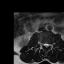CCS_normal: (45, 41, 47, 49)
LFS_normal: (49, 41, 51, 48)
LLS_normal: (47, 41, 49, 48)
RFS_normal: (41, 41, 43, 47)
RLS_normal: (43, 41, 45, 47)
